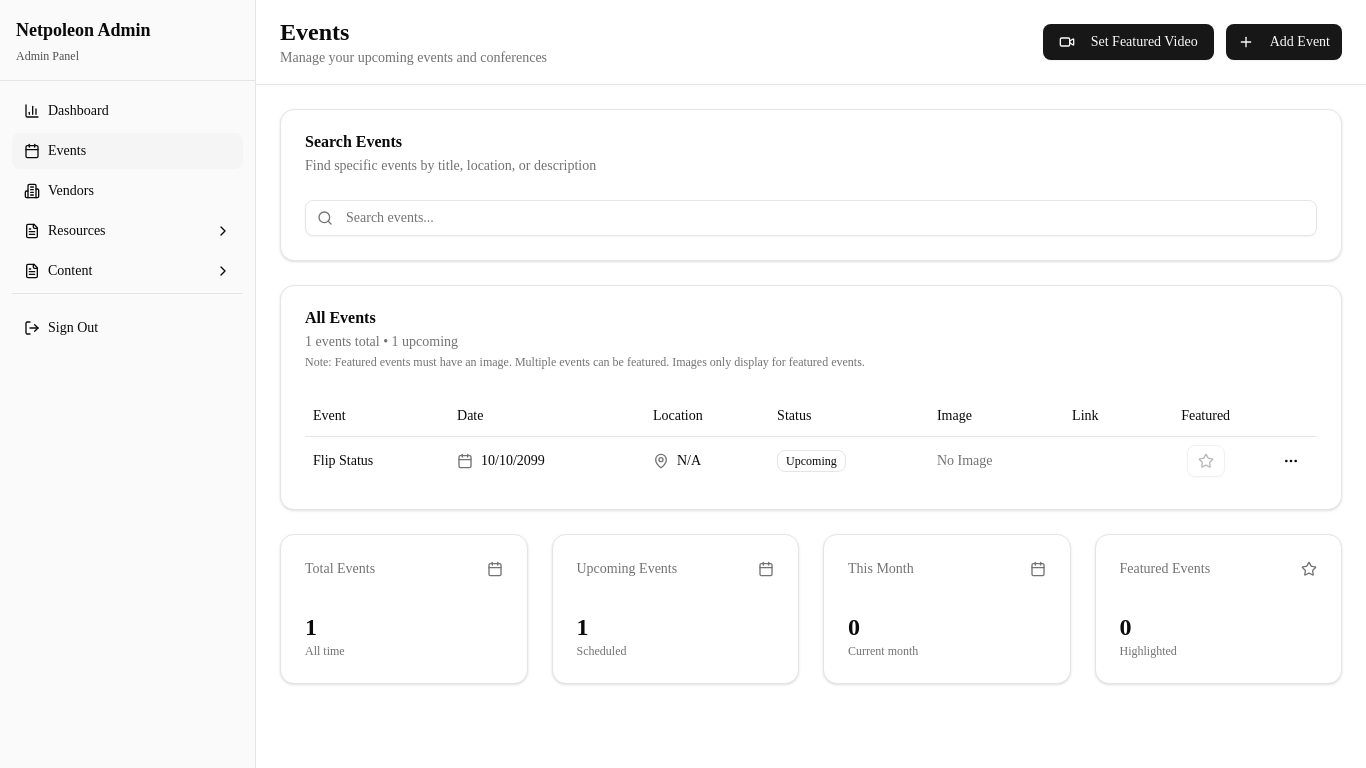
Test case: Admin Events Page › updates event date from Upcoming to Past and status changes
The width and height of the screenshot is (1366, 768).
Check: the text "All Events" is shown, box [305,309,376,326]
Check: the text "Upcoming" is shown, box [777,450,846,472]
Click the button with test id "row-menu" at point(1291, 460), box [1275,444,1307,476]
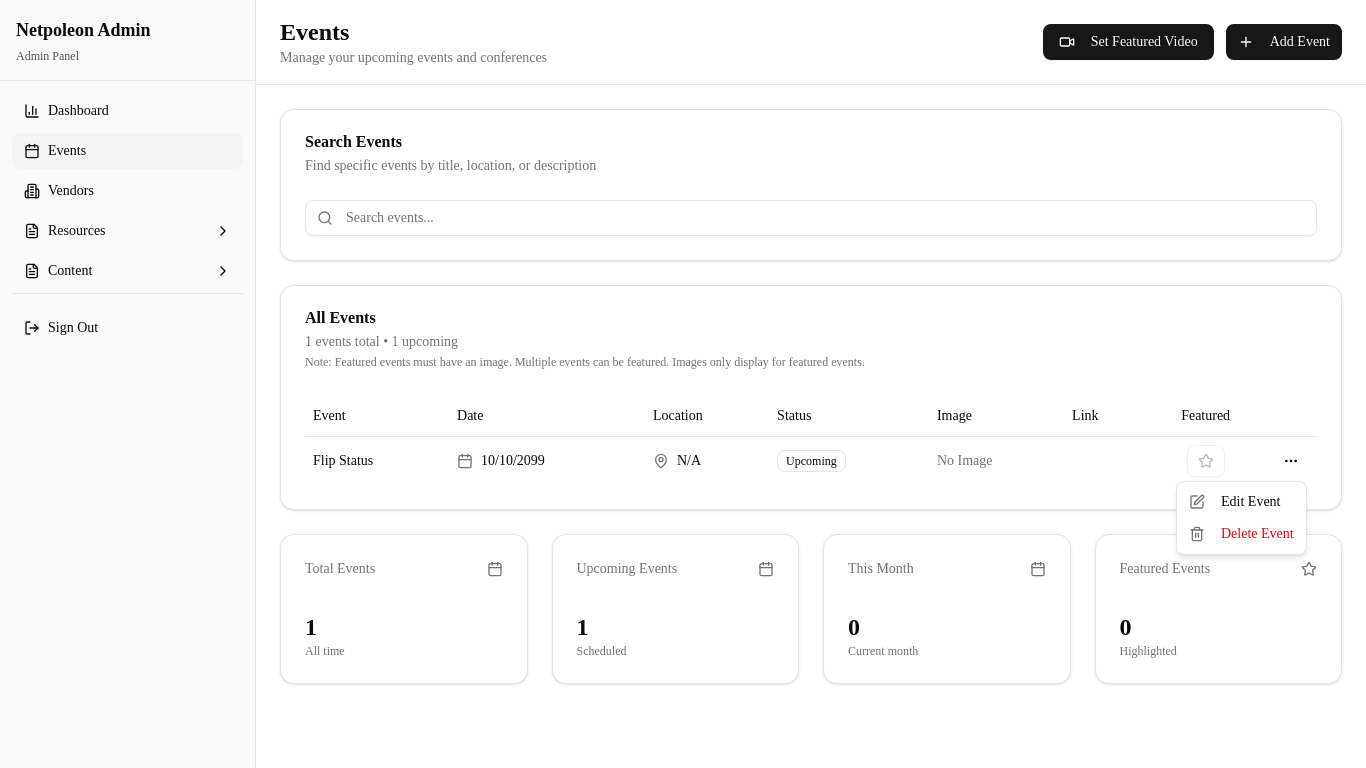
Click the menu item "Edit Event" at point(1235, 502), box [1189,494,1280,510]
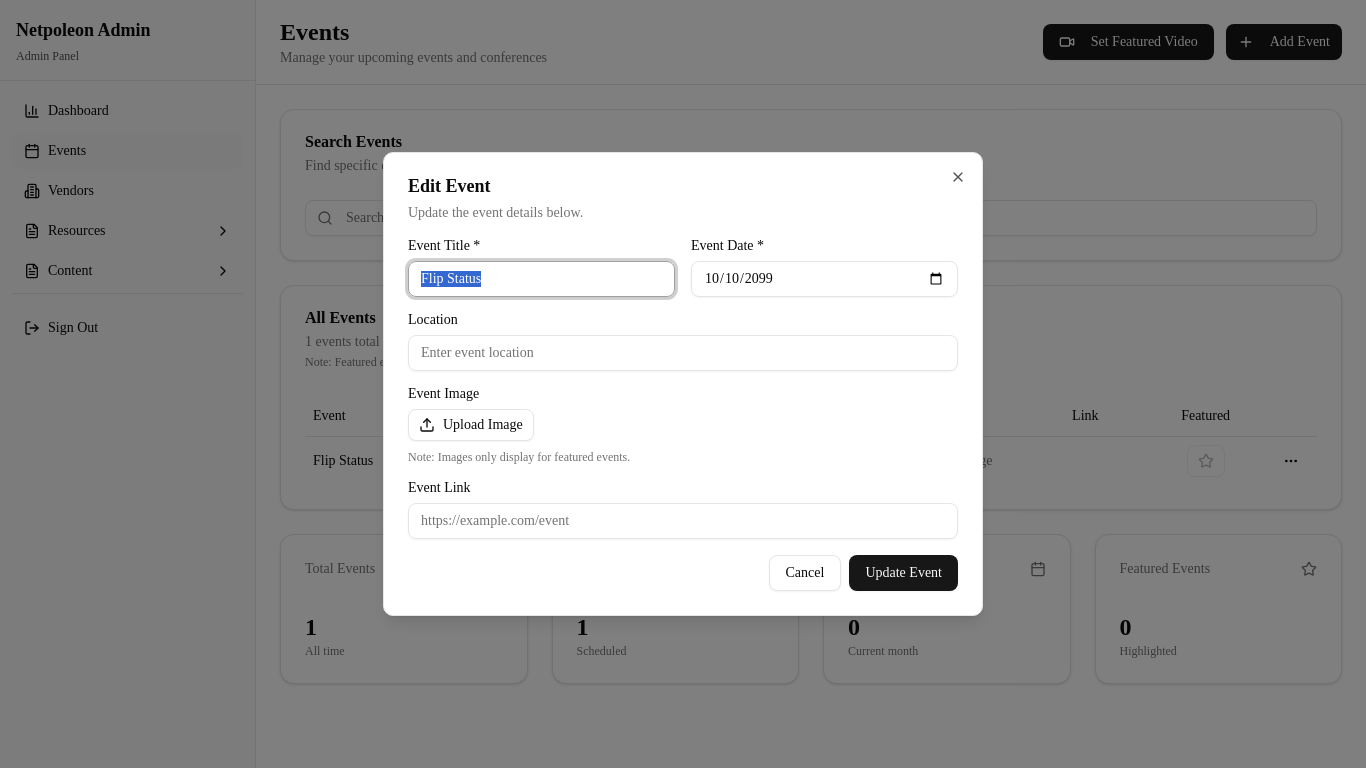
Type "2000-01-01" into the date field labelled "Event Date *" at point(824, 279), box [691,261,958,297]
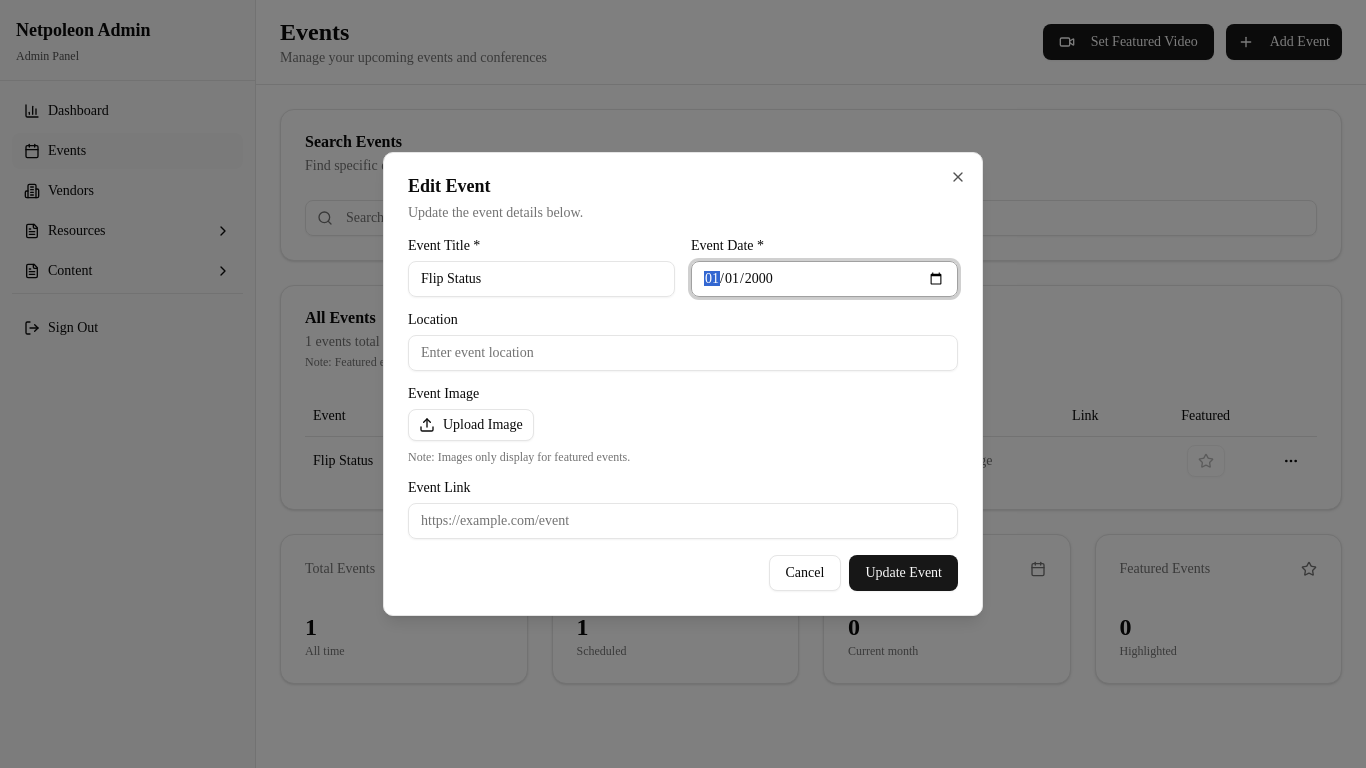
Click the button "Update Event" at point(904, 573), box [849,555,958,591]
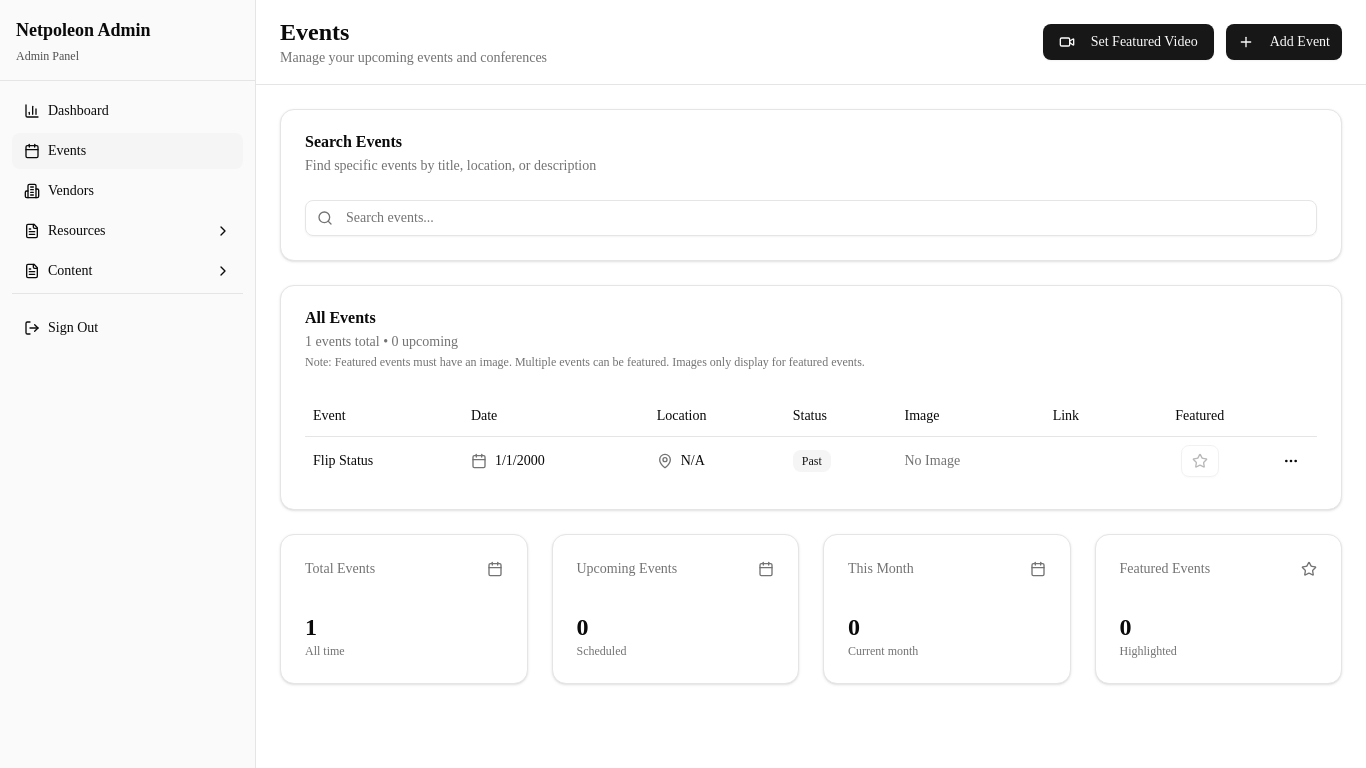
Check: the text "Past" is shown, box [793,450,831,472]
